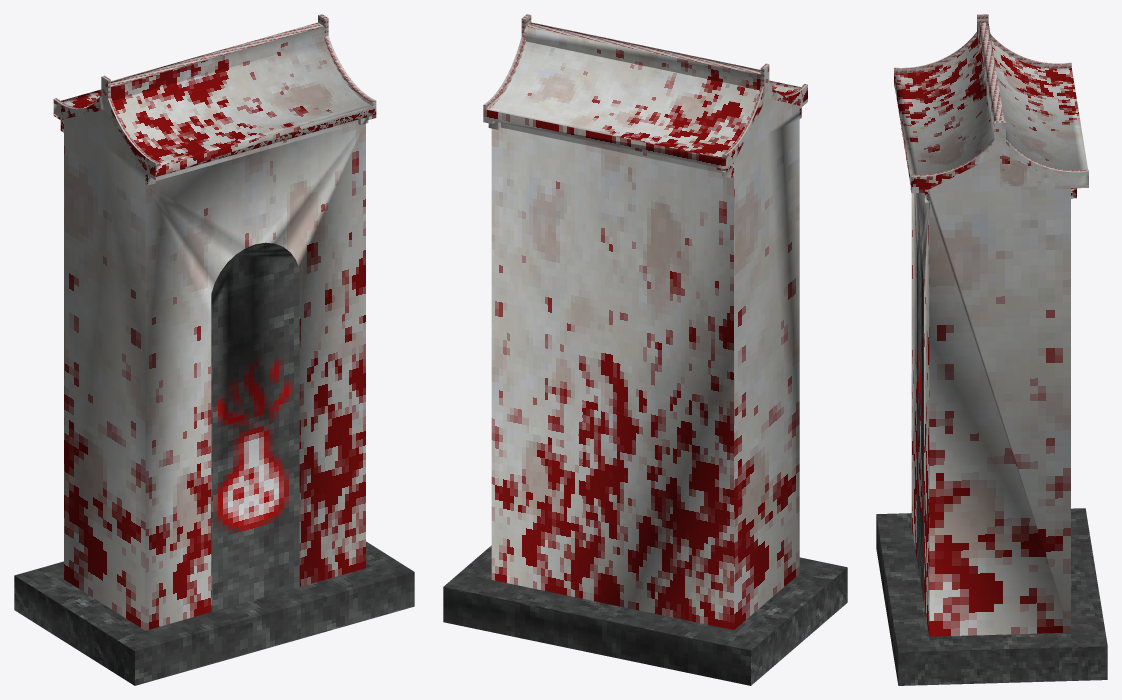
File: Tomb.fbx
3 views of the same model, side by side, from view 1: azimuth 30°, elevation 25°; view 2: azimuth 150°, elevation 25°; view 3: azimuth 270°, elevation 25° (orthographic). The views are drawn at different scales.
Visible parts, largest first — view 1: Tomb, Tomb Door; view 2: Tomb; view 3: Tomb, Tomb Door.
Part boxes in pixels (<box>): Tomb: <box>14,14,414,685</box>; Tomb Door: <box>211,242,299,611</box>; Tomb: <box>443,14,847,685</box>; Tomb: <box>876,14,1107,685</box>; Tomb Door: <box>917,232,923,602</box>.
Size of the model in its own units: 279 by 493 by 190.
3 materials, 3 textured.
